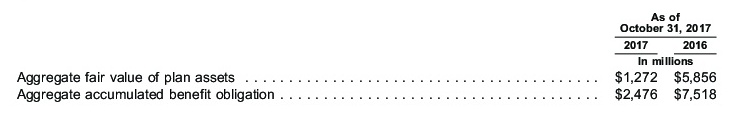table: (0, 0, 732, 123)
